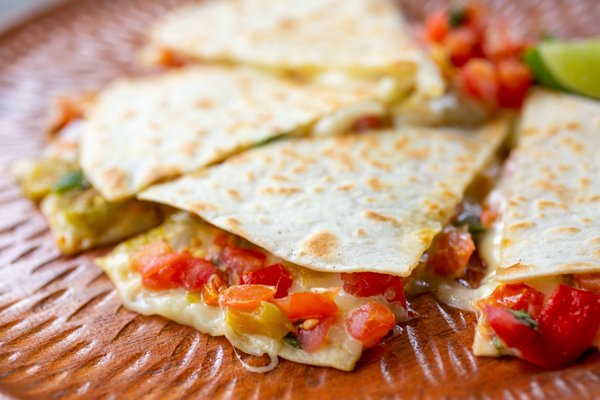sandwich: (86, 208, 404, 371)
